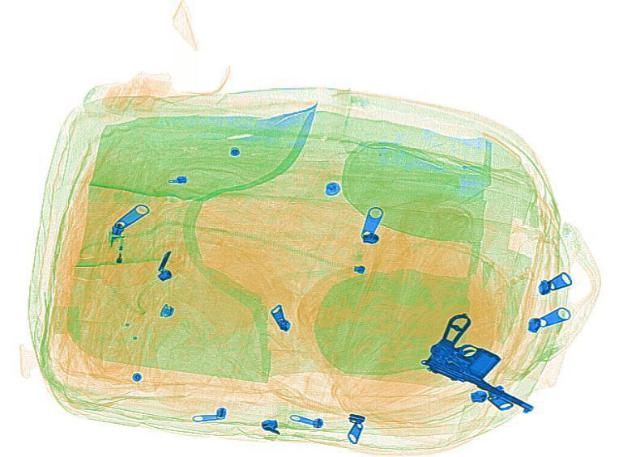Gun: (406, 310, 578, 412)
